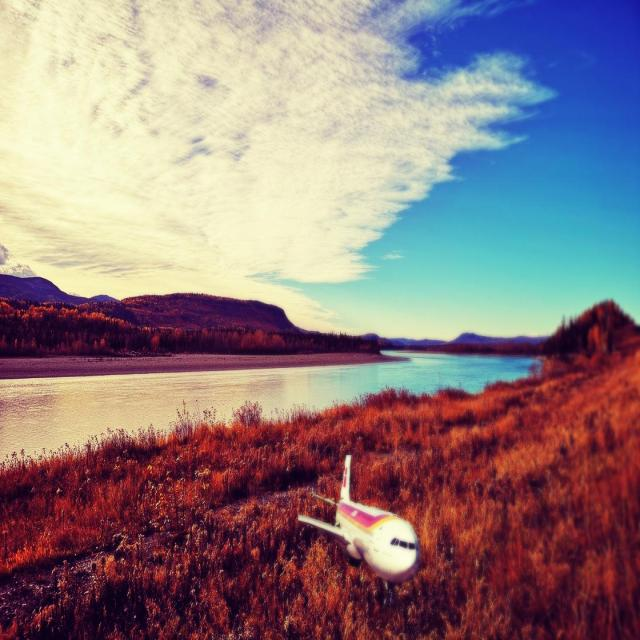airplane: (297, 454, 421, 606)
